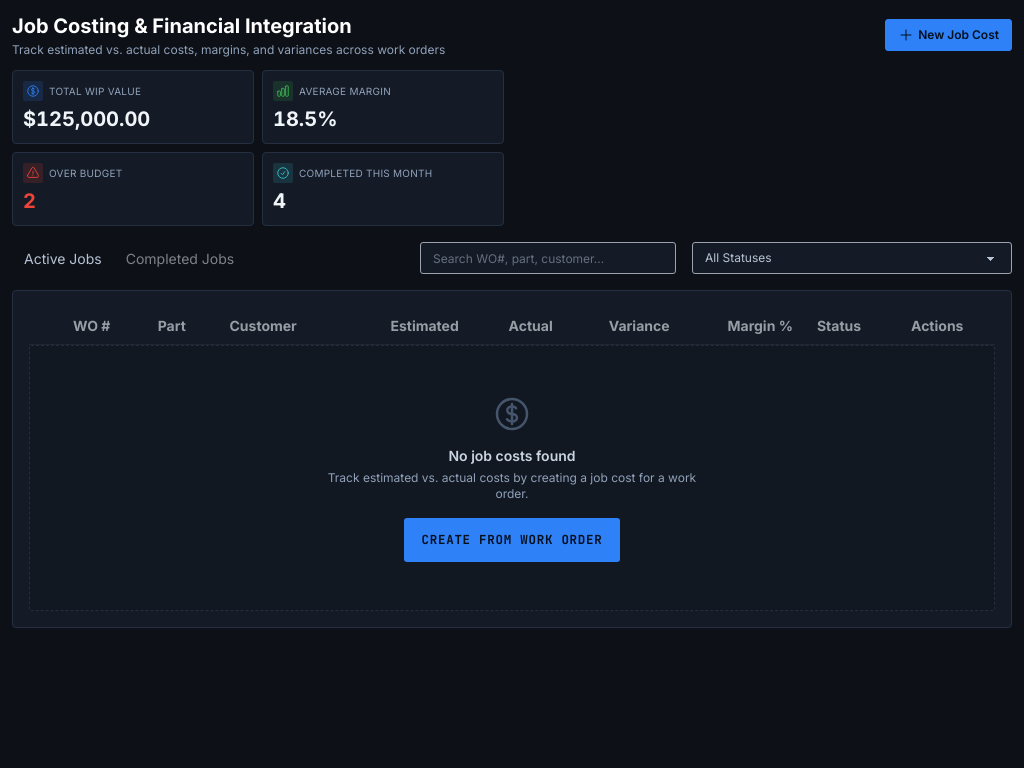
Test case: JobCosting cockpit › bridges an empty list to the existing work-order picker without posting costs
The width and height of the screenshot is (1024, 768).
Click the button "Create from work order".
click(512, 540)  # box [404,518,620,562]
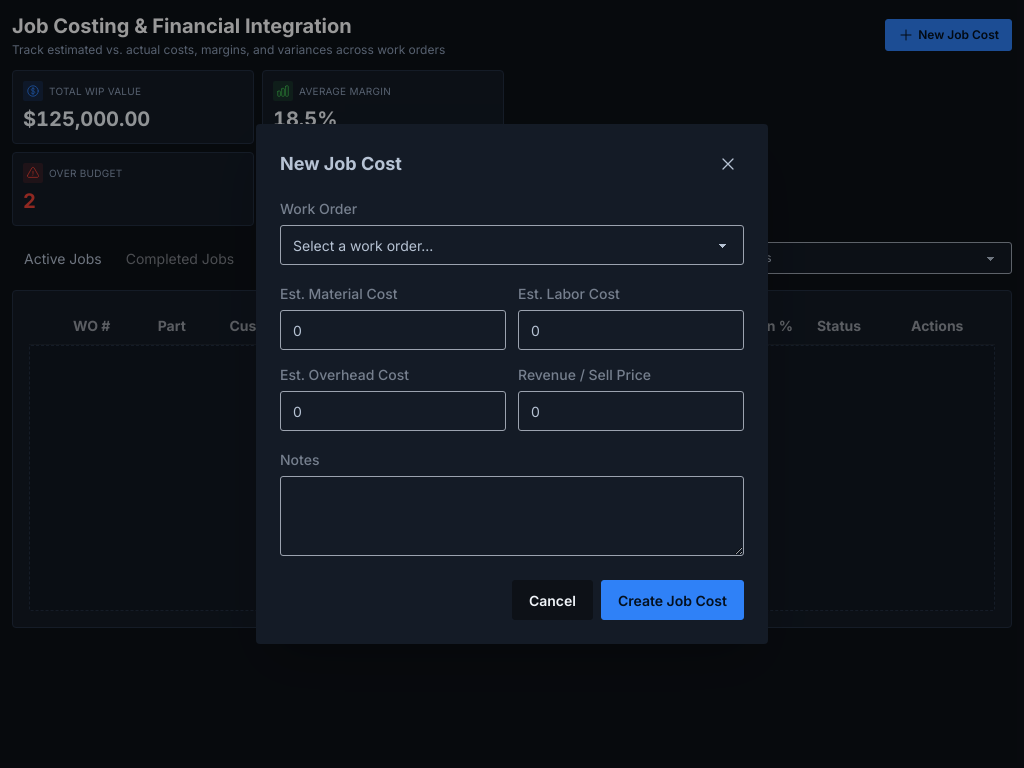
Now the dropdown labelled "Work Order" is enabled, box [280,225,744,265]
